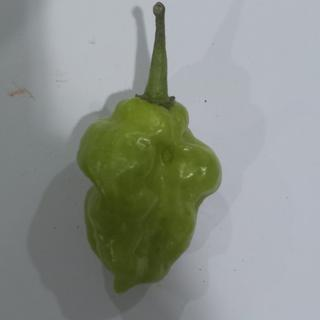Grade-A: (66, 87, 224, 294)
